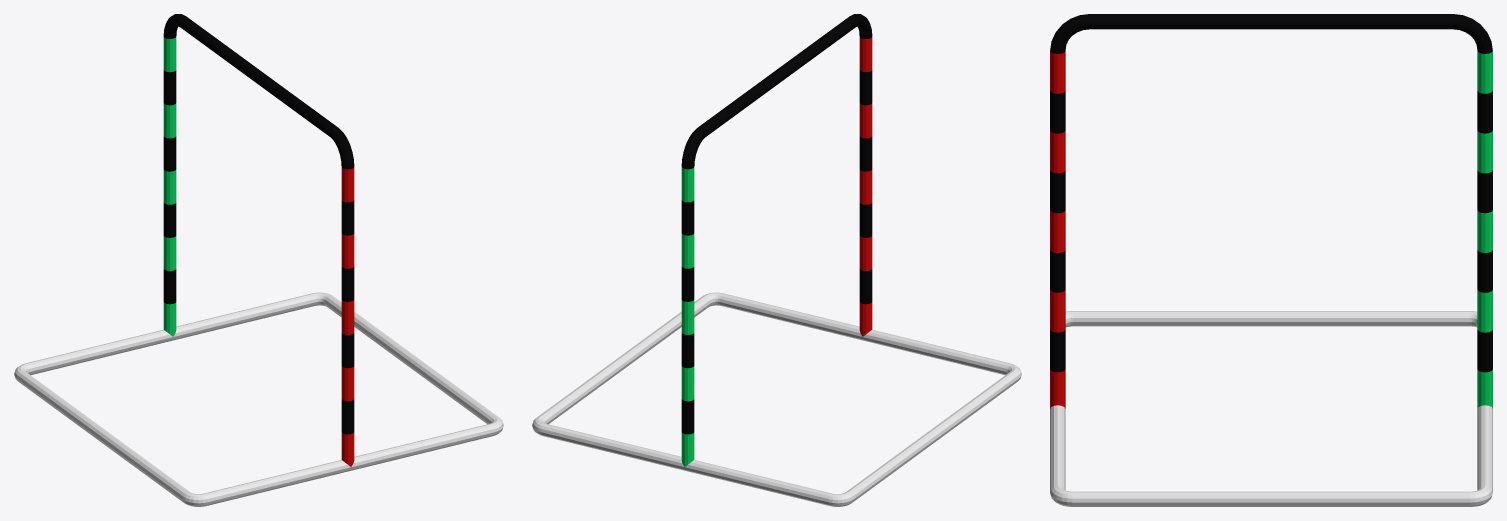
Rendered from sauvc_gate.fbx.
The picture shows the model from 3 angles, left to right: view 1: azimuth 30°, elevation 25°; view 2: azimuth 150°, elevation 25°; view 3: azimuth 270°, elevation 25°; orthographic projection. The views are drawn at different scales.
Parts seen in each view (by area): view 1: Cube; view 2: Cube; view 3: Cube.
Boxes of the visible parts, x1,y1,x2,y2 form: Cube: (14, 14, 503, 506); Cube: (532, 14, 1021, 506); Cube: (1050, 14, 1492, 506).
Bounding box in the file's own units: 804 × 804 × 804.
